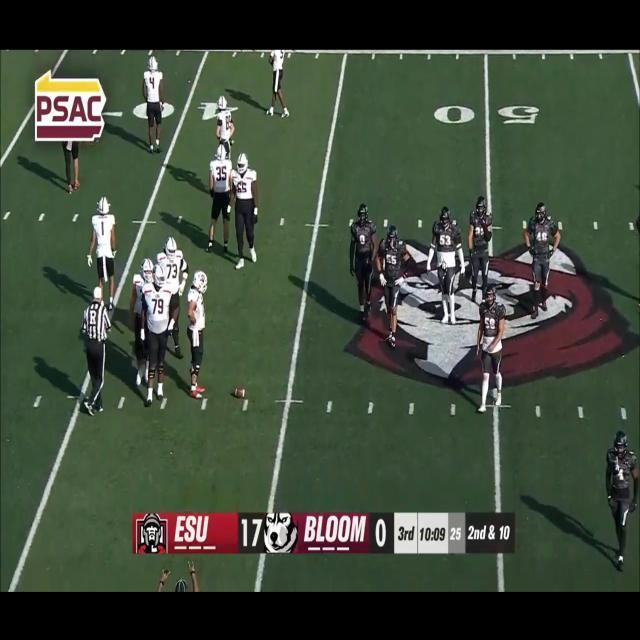football: (232, 387, 248, 399)
